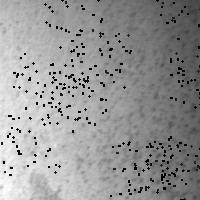pitted_surface: (88, 9, 200, 198), (14, 18, 90, 197), (20, 139, 107, 199), (110, 136, 170, 195), (1, 114, 58, 174), (71, 29, 130, 86), (49, 70, 105, 130), (13, 53, 68, 111), (44, 0, 101, 53), (145, 138, 200, 186), (159, 142, 200, 200), (129, 160, 183, 200), (156, 0, 200, 49), (170, 47, 200, 106)
